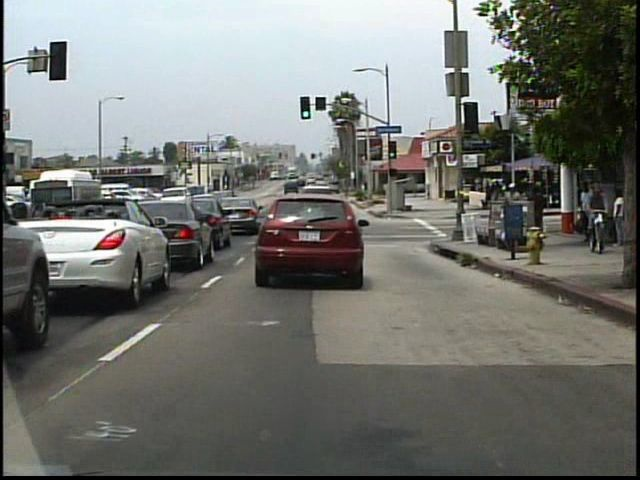person: (529, 176, 549, 241), (504, 180, 526, 238), (589, 182, 609, 240), (609, 189, 627, 246), (580, 182, 590, 236)
